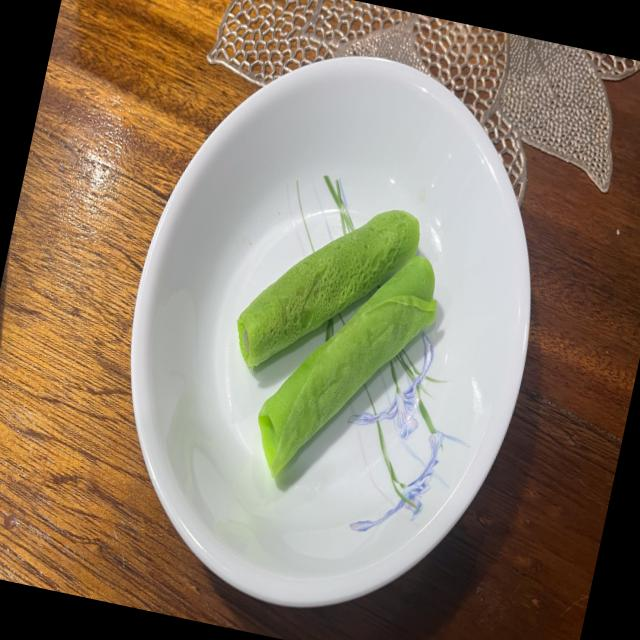Kuih-Ketayap: (258, 256, 436, 476), (237, 209, 419, 367)
